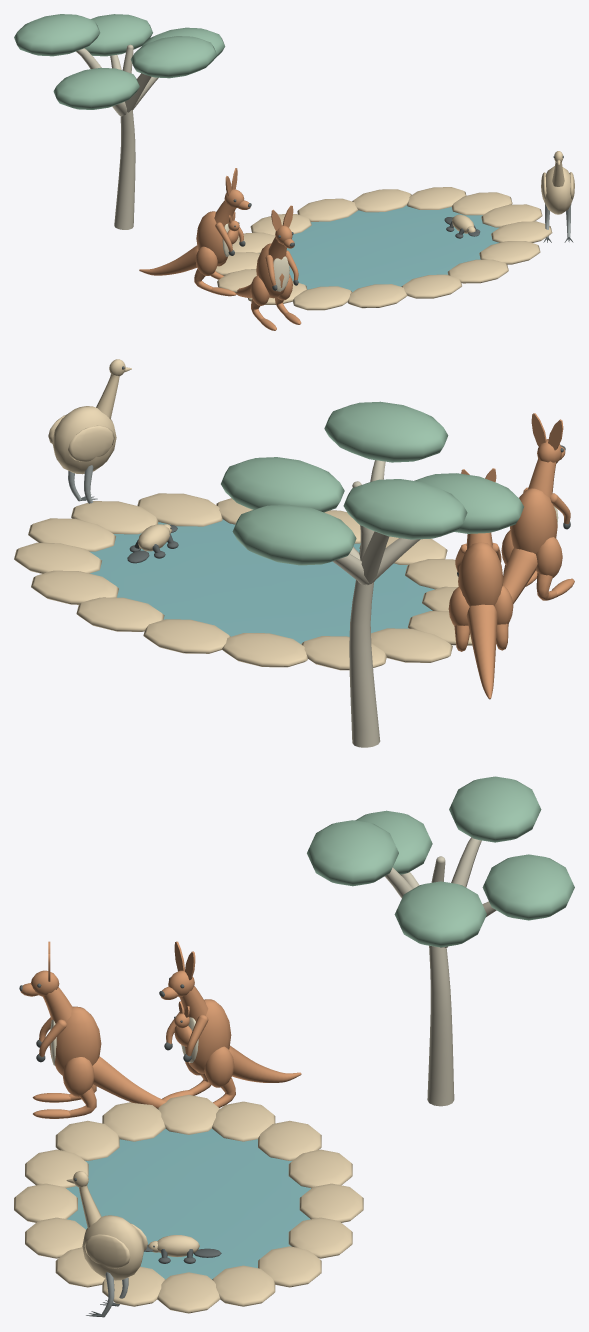
File: outback-and-australian-wildlife-billabon-b4859edc-starter-scene__5933.glb
3 renders of one model, top to bottom at view 1: azimuth 30°, elevation 25°; view 2: azimuth 150°, elevation 25°; view 3: azimuth 270°, elevation 25°, orthographic. The views are drawn at different scales.
Parts seen in each view (by area): view 1: 000-billabong-pool/1, 000-billabong-pool/0, 005-ghost-gum-eucalyptus/1, 002-kangaroo-with-joey/0, 005-ghost-gum-eucalyptus/0, 001-red-kangaroo/0, 003-emu/0, 001-red-kangaroo/1; view 2: 000-billabong-pool/1, 005-ghost-gum-eucalyptus/1, 000-billabong-pool/0, 001-red-kangaroo/0, 002-kangaroo-with-joey/0, 005-ghost-gum-eucalyptus/0, 003-emu/0, 004-platypus/0, 004-platypus/1; view 3: 000-billabong-pool/1, 000-billabong-pool/0, 005-ghost-gum-eucalyptus/1, 001-red-kangaroo/0, 002-kangaroo-with-joey/0, 005-ghost-gum-eucalyptus/0, 003-emu/0, 004-platypus/0.
Part boxes in pixels (x1,y1,x2,y2): 000-billabong-pool/1: [215, 187, 552, 310]; 000-billabong-pool/0: [259, 205, 499, 291]; 005-ghost-gum-eucalyptus/1: [14, 14, 225, 109]; 002-kangaroo-with-joey/0: [139, 168, 250, 296]; 005-ghost-gum-eucalyptus/0: [76, 44, 158, 229]; 001-red-kangaroo/0: [235, 205, 301, 330]; 003-emu/0: [541, 151, 574, 214]; 001-red-kangaroo/1: [273, 256, 289, 291]; 000-billabong-pool/1: [14, 493, 472, 670]; 005-ghost-gum-eucalyptus/1: [221, 401, 523, 565]; 000-billabong-pool/0: [90, 519, 434, 644]; 001-red-kangaroo/0: [501, 413, 574, 604]; 002-kangaroo-with-joey/0: [448, 468, 513, 699]; 005-ghost-gum-eucalyptus/0: [333, 460, 420, 747]; 003-emu/0: [48, 359, 125, 474]; 004-platypus/0: [138, 524, 172, 551]; 004-platypus/1: [127, 525, 178, 563]; 000-billabong-pool/1: [14, 1094, 363, 1313]; 000-billabong-pool/0: [66, 1128, 310, 1279]; 005-ghost-gum-eucalyptus/1: [307, 776, 574, 947]; 001-red-kangaroo/0: [20, 941, 166, 1118]; 002-kangaroo-with-joey/0: [160, 941, 301, 1107]; 005-ghost-gum-eucalyptus/0: [385, 837, 496, 1106]; 003-emu/0: [73, 1171, 147, 1280]; 004-platypus/0: [148, 1235, 199, 1257].
Size of the model in its own units: 7.98 by 3.67 by 6.68.
